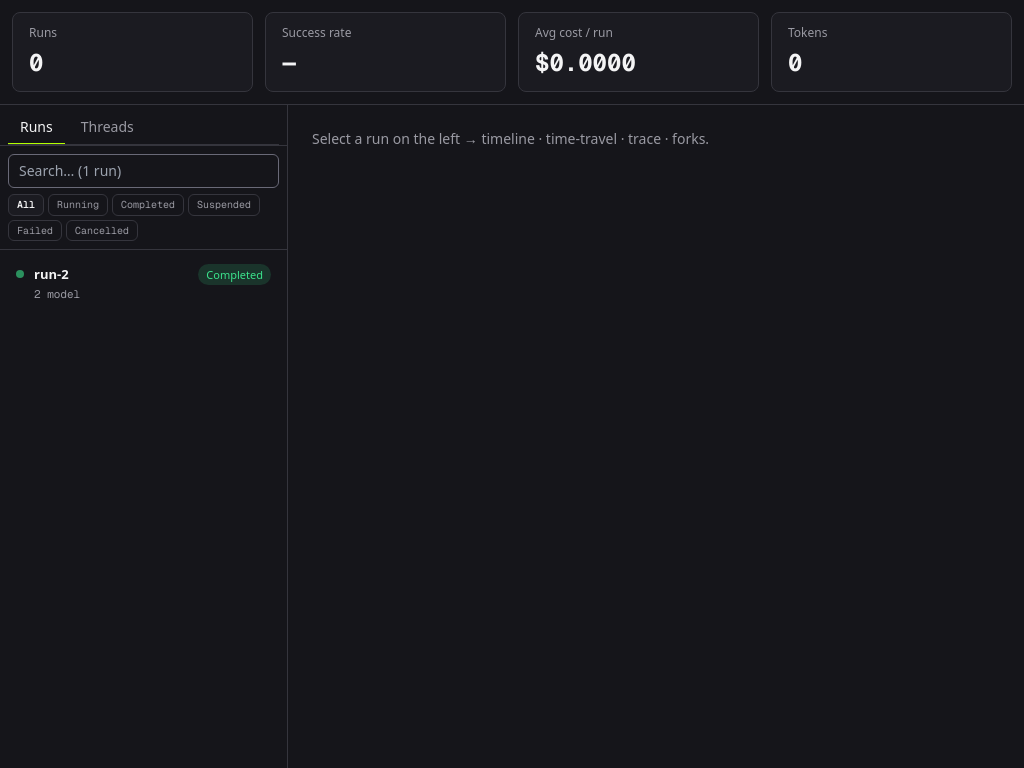
Inspector — Network tab + cost details › cost panel: shows the cachedTokens and byModel breakdown
What coordinates should you click on to do the following:
click the text "run-2"
I would click on:
 (51, 274)
Its box is [34,264,69,284].
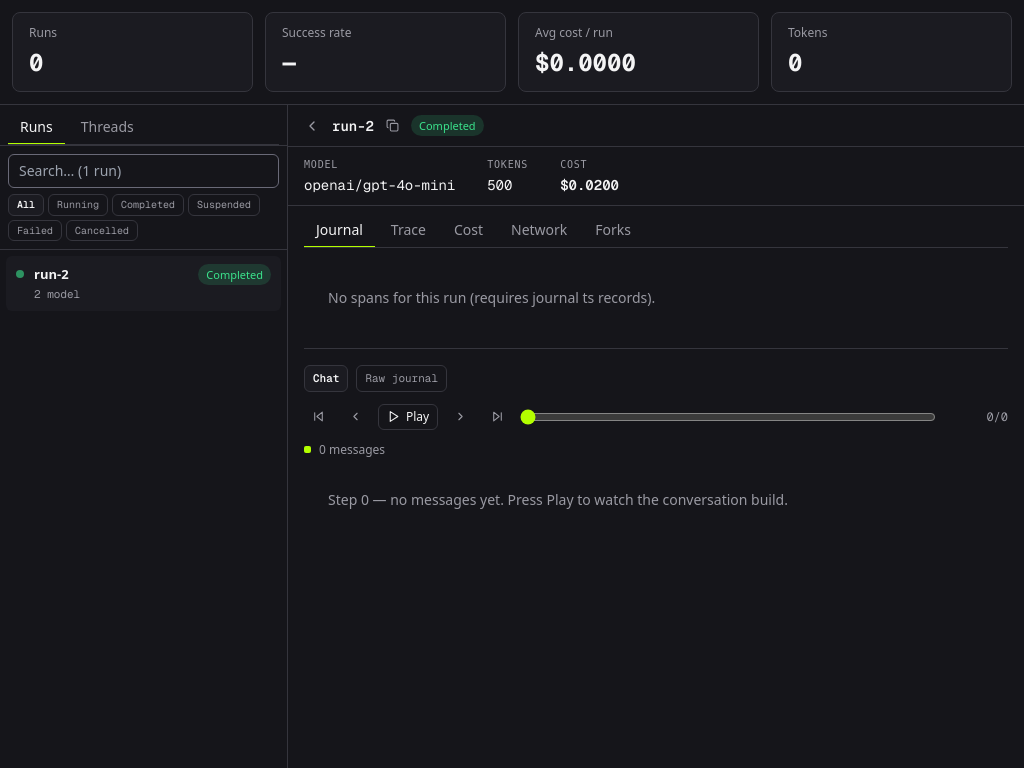
What coordinates should you click on to do the following:
click the tab "Cost"
I would click on:
 (468, 230)
Its box is [442,214,495,248].
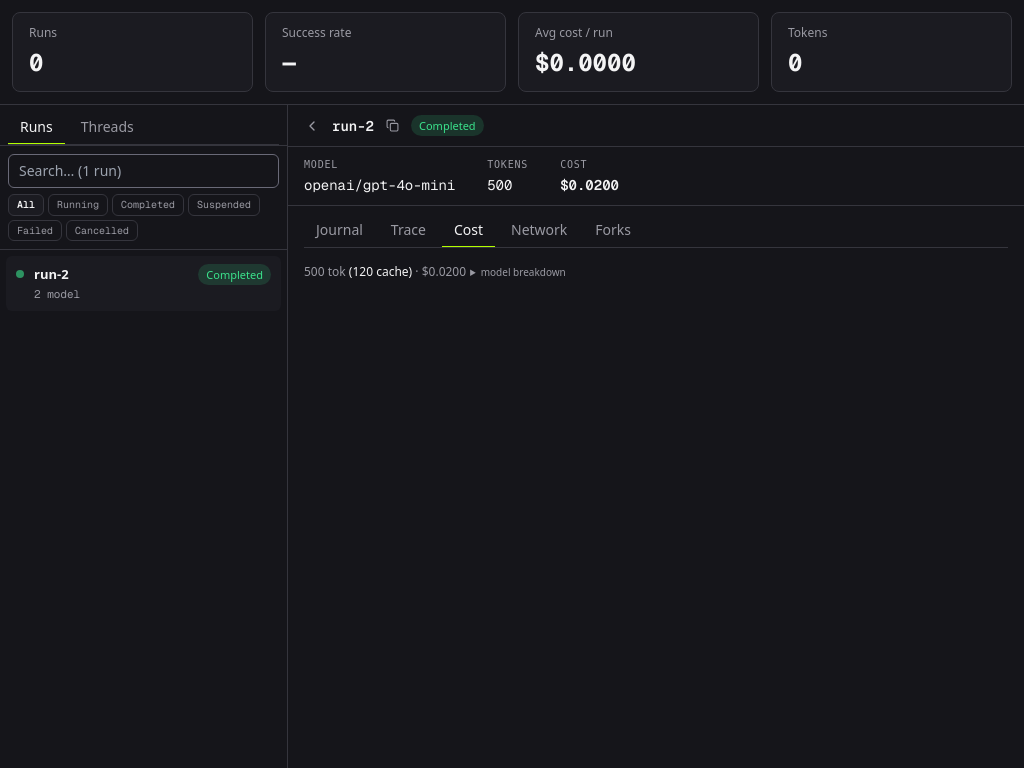
Check: the text "openai/gpt-4o-mini" is shown, box [304,174,455,194]
Check: the text "500 tok (120 cache) · $0.0200" is shown, box [304,264,466,280]
Check: the text "(120 cache)" is shown, box [346,262,412,280]
